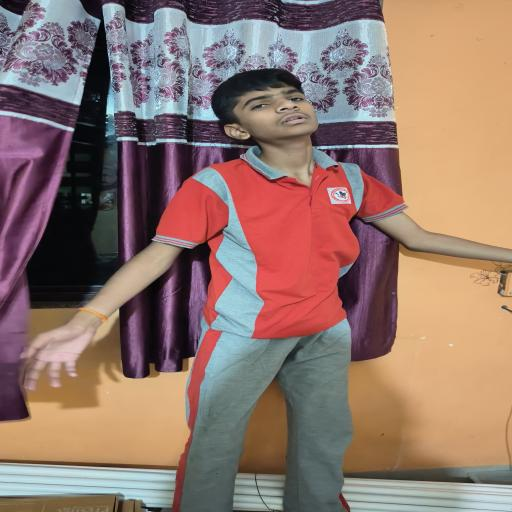survivor: (18, 68, 512, 512)
